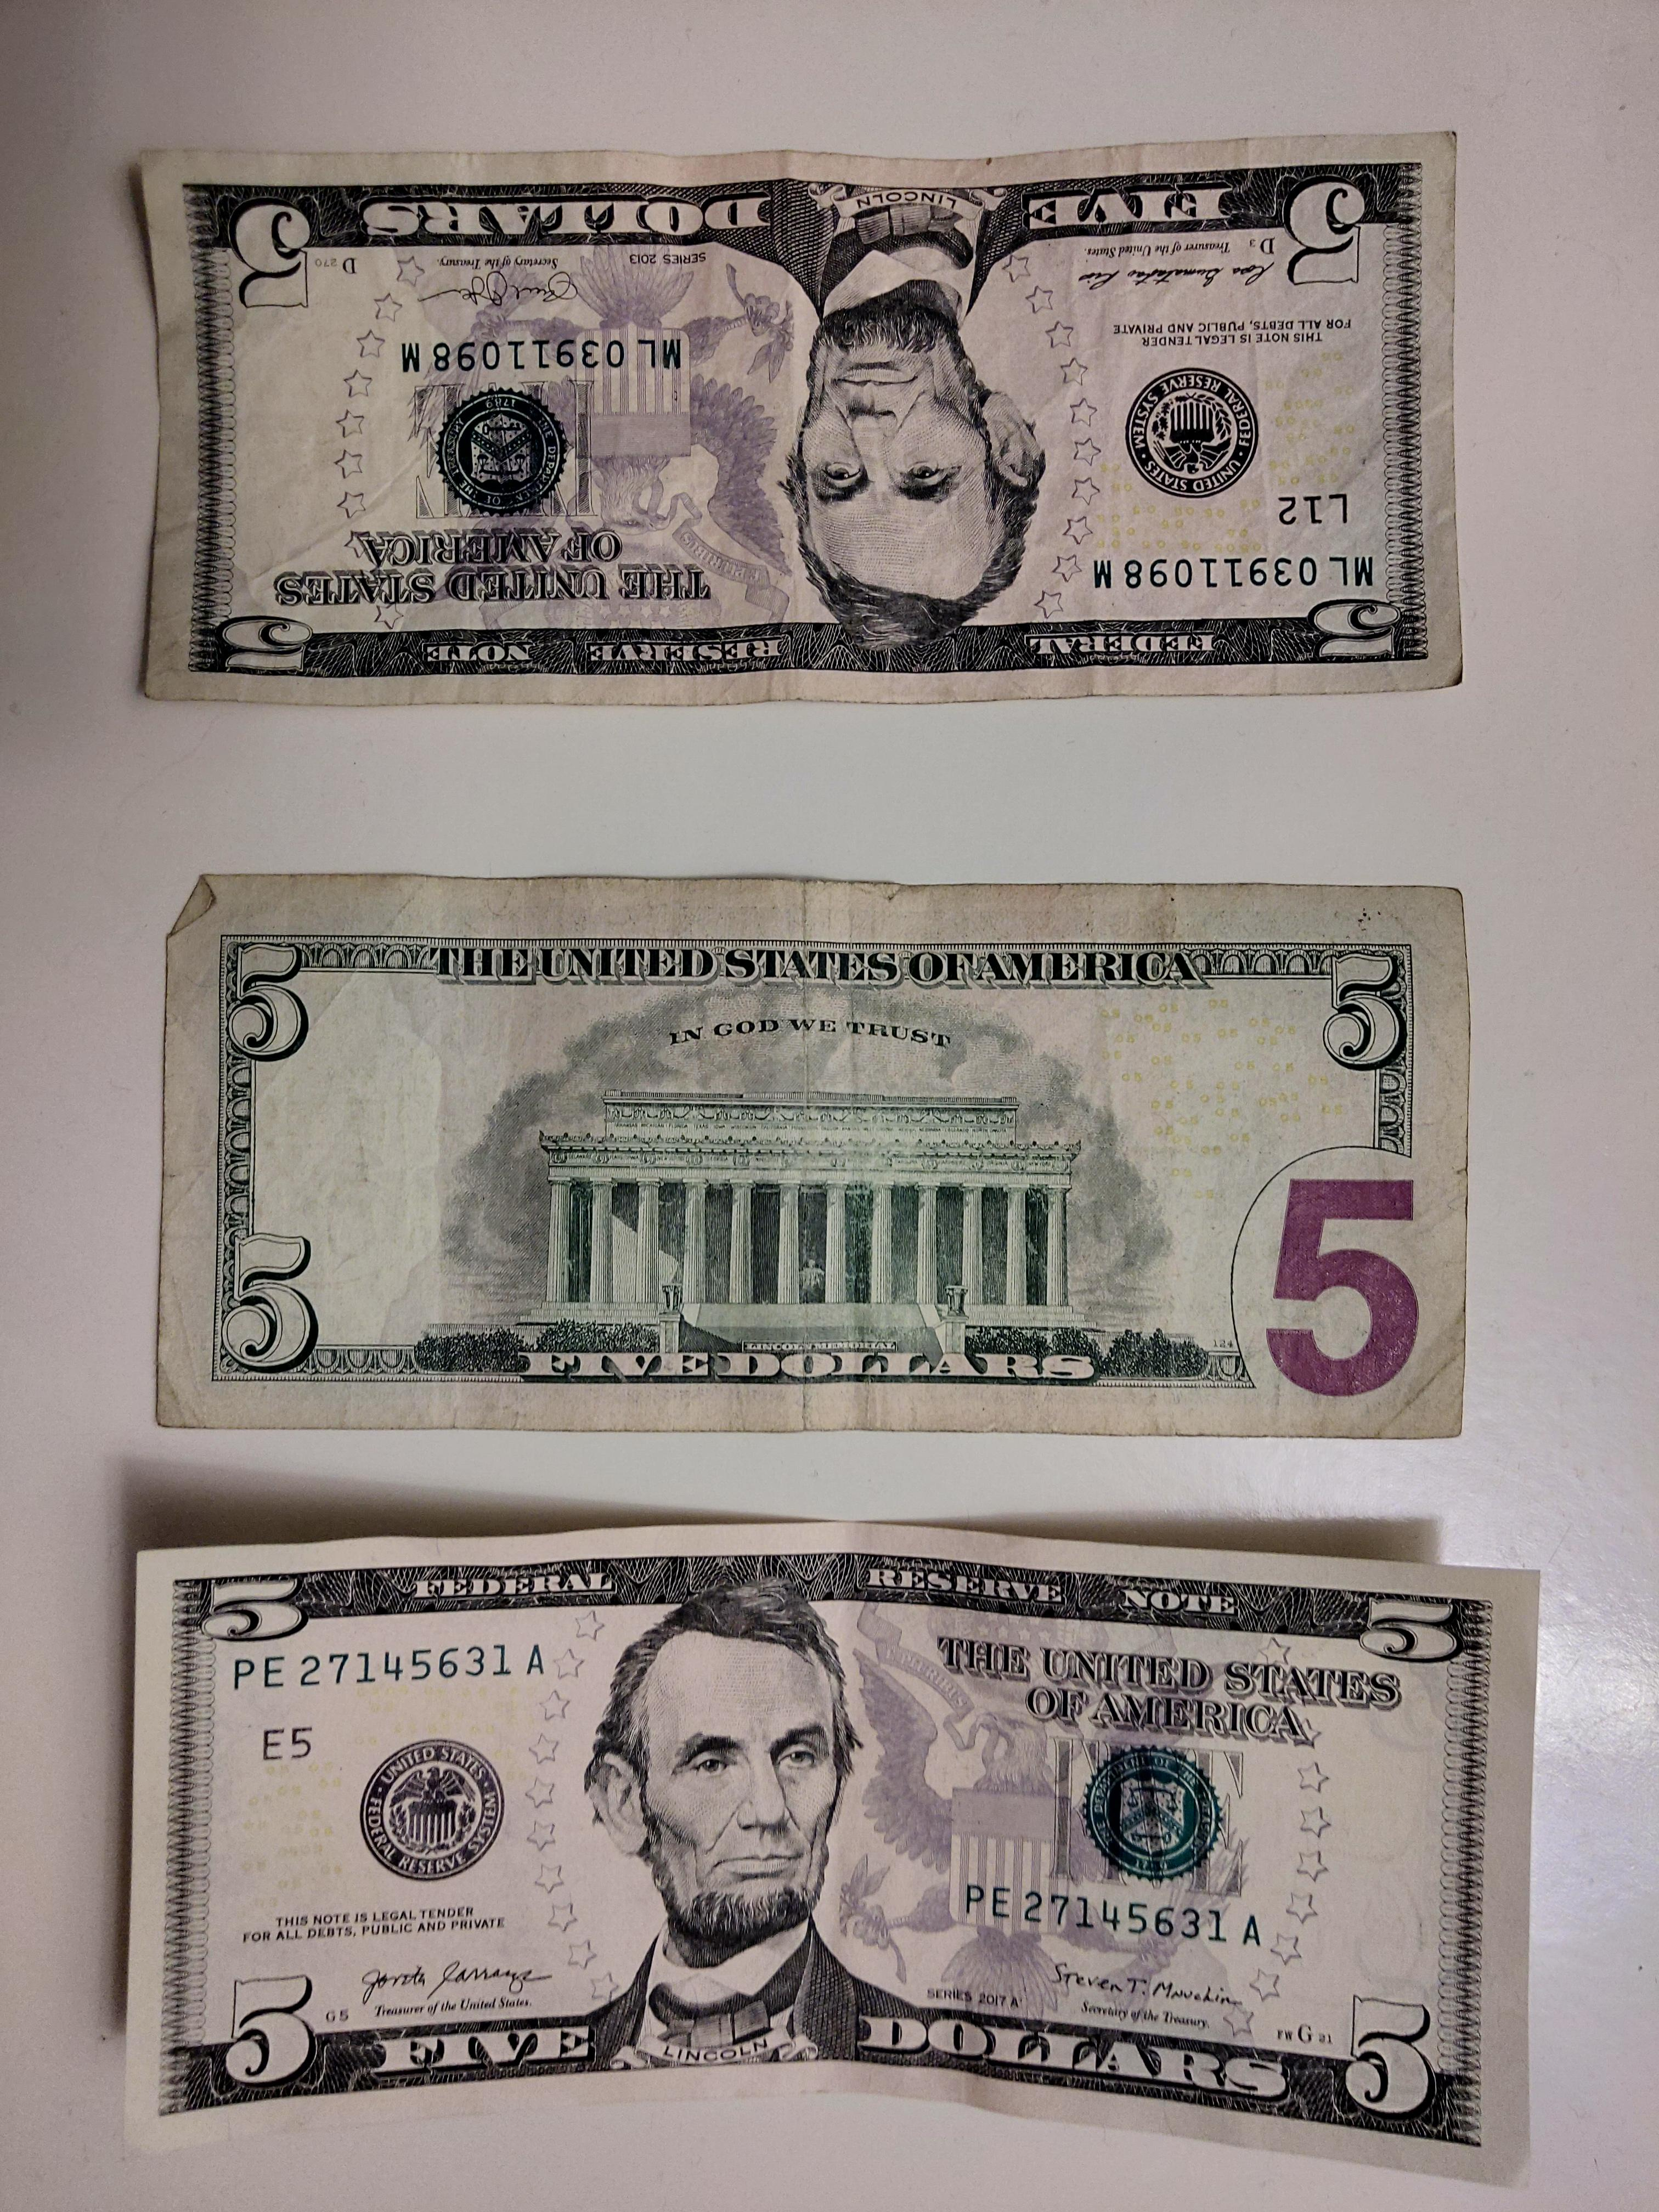FiveBill: (120, 1519, 1546, 2193), (132, 127, 1462, 711), (148, 866, 1471, 1446)
